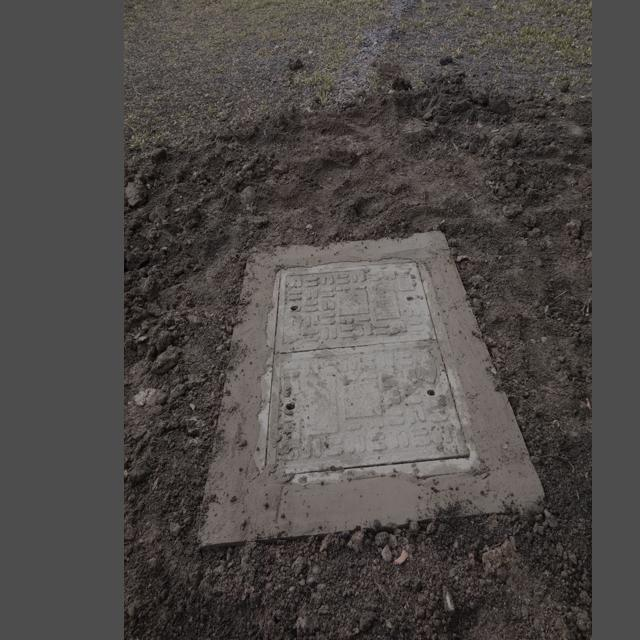good: (268, 255, 481, 478)
